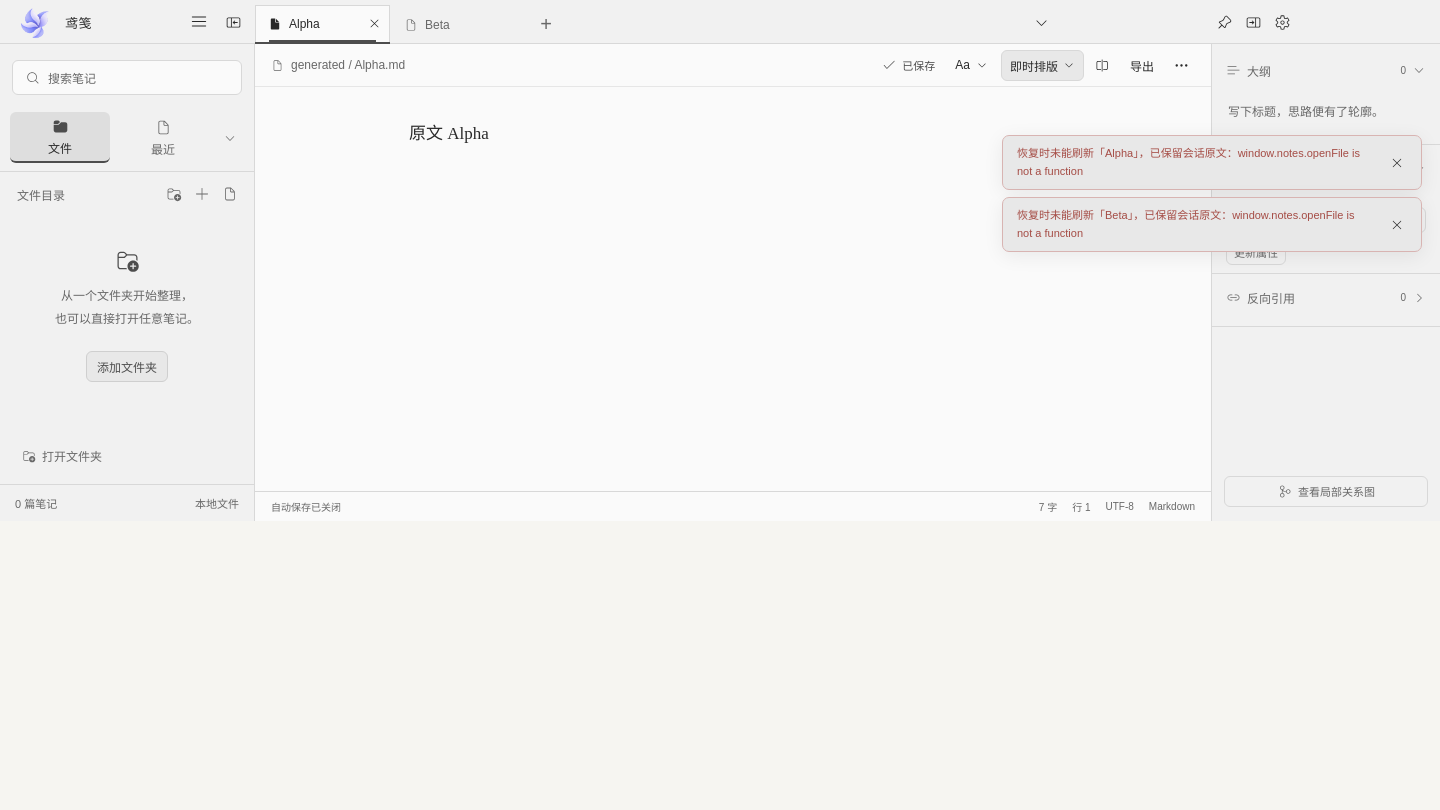
it: cancelling a table preview creates no draft and the existing text stays intact
Click the button named "应用菜单".
click(199, 22)  # box [185,8,213,36]
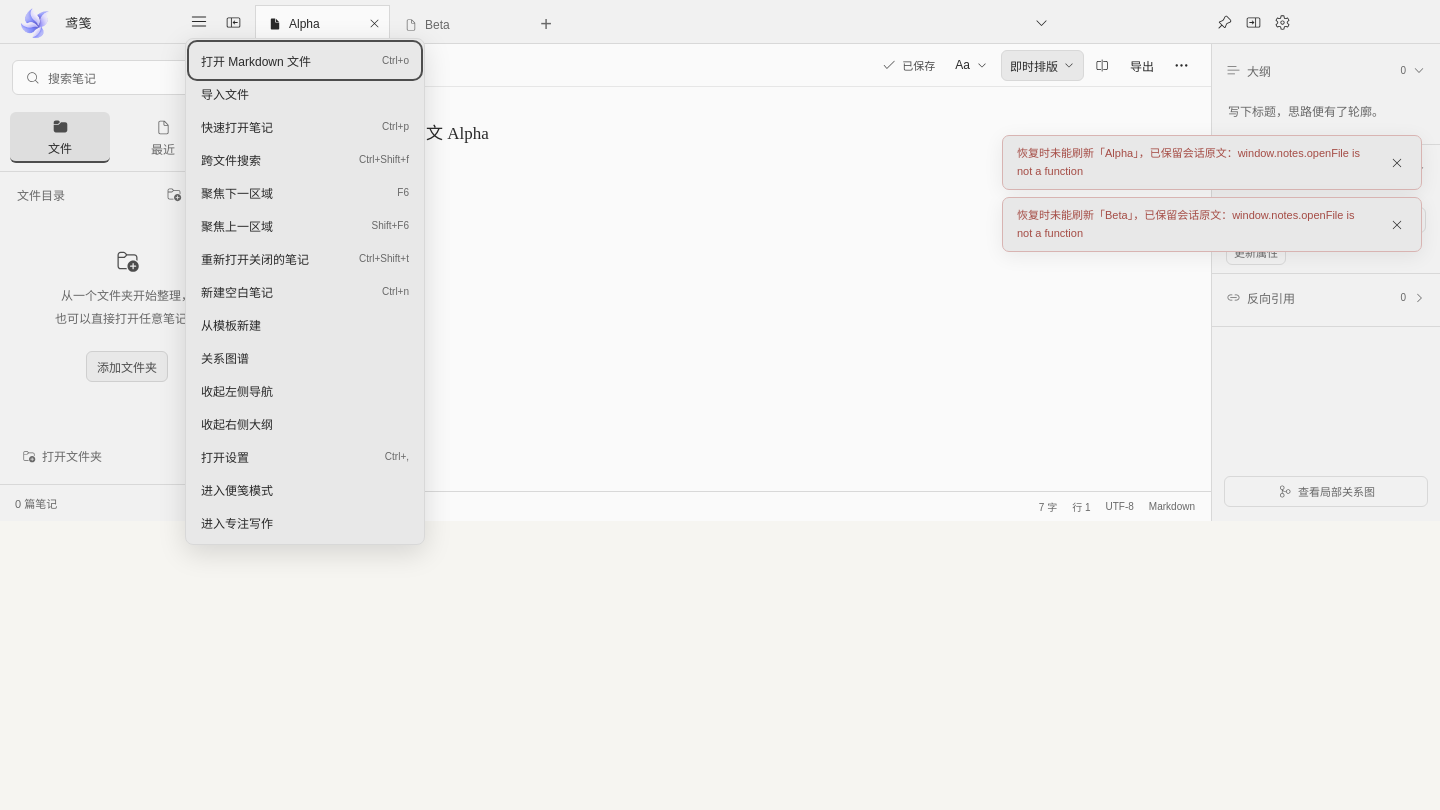
Click the menu item "导入文件".
click(305, 94)  # box [191,77,419,110]
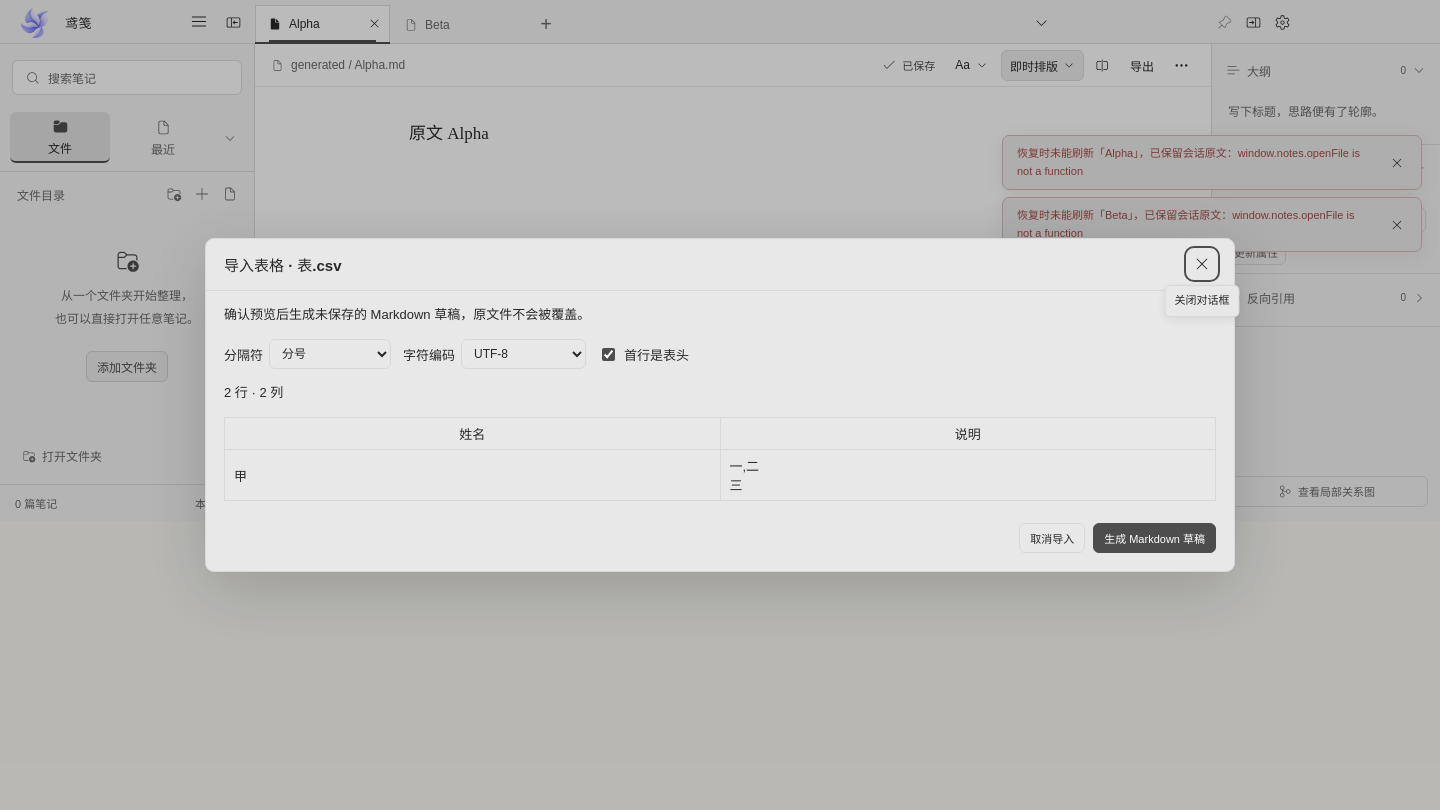
Click the button "取消导入".
click(1052, 538)  # box [1019,523,1085,553]
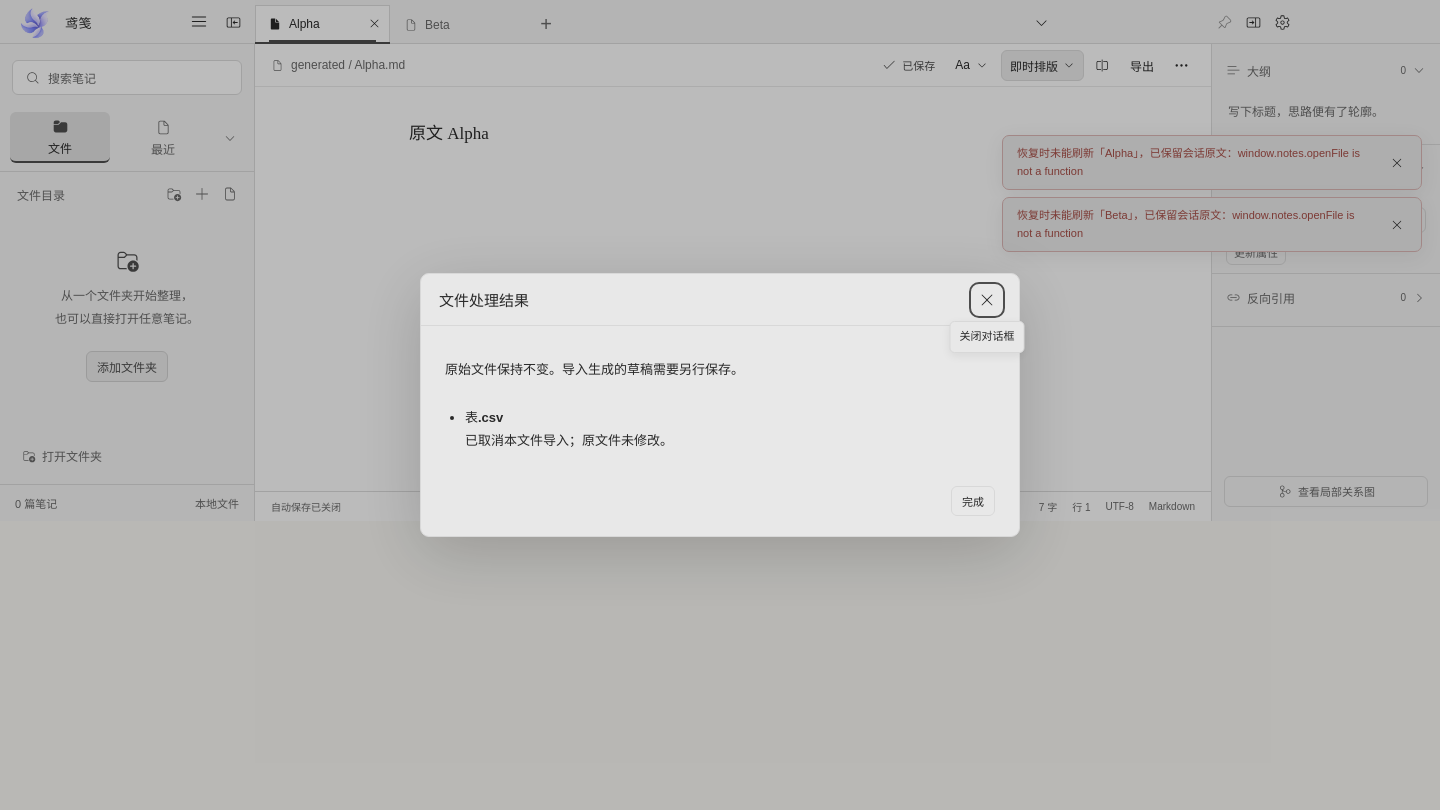
expect the text box labelled "原文 Alpha" is shown: met, box [409,124,489,143]
expect the text "已取消本文件导入" is shown: met, box [465,432,673,448]
